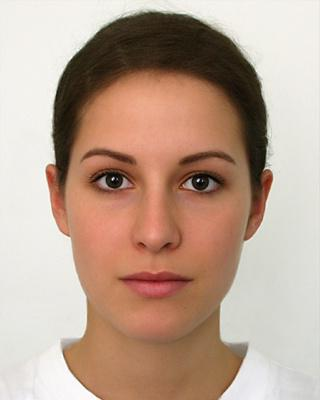face: (67, 70, 247, 342)
